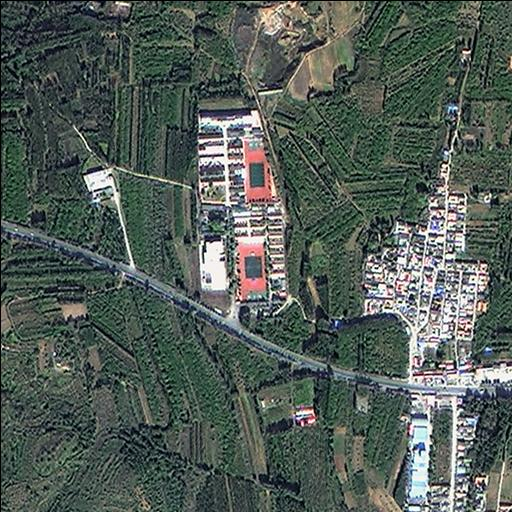school: (194, 107, 277, 206), (233, 205, 288, 305)
